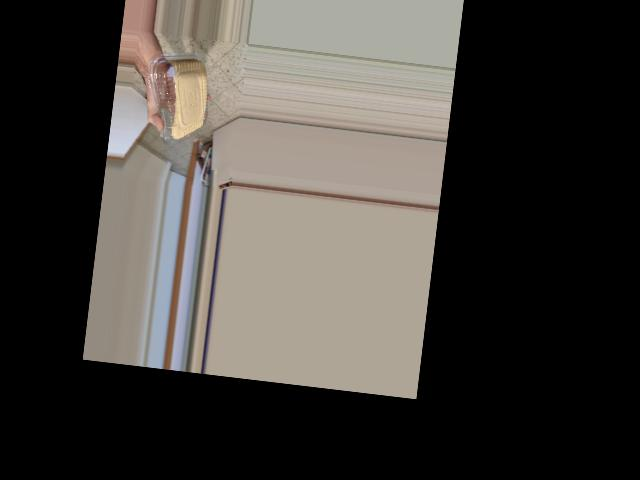cheese: (159, 45, 205, 124)
